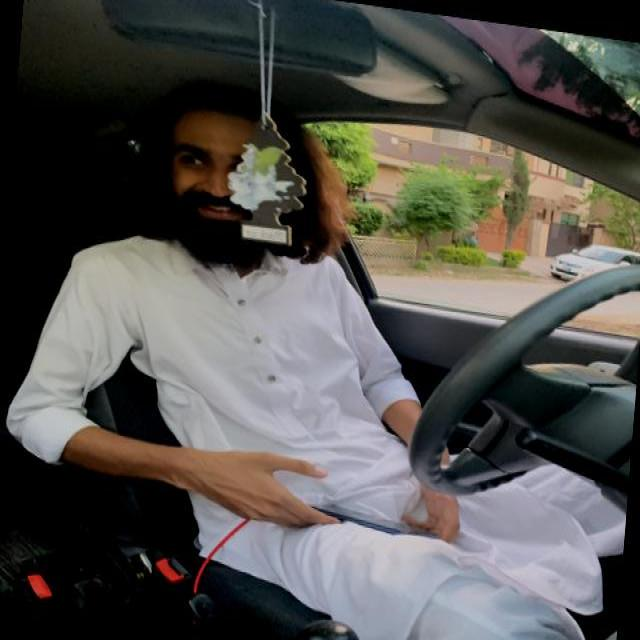no-seatbelt: (106, 285, 452, 532)
